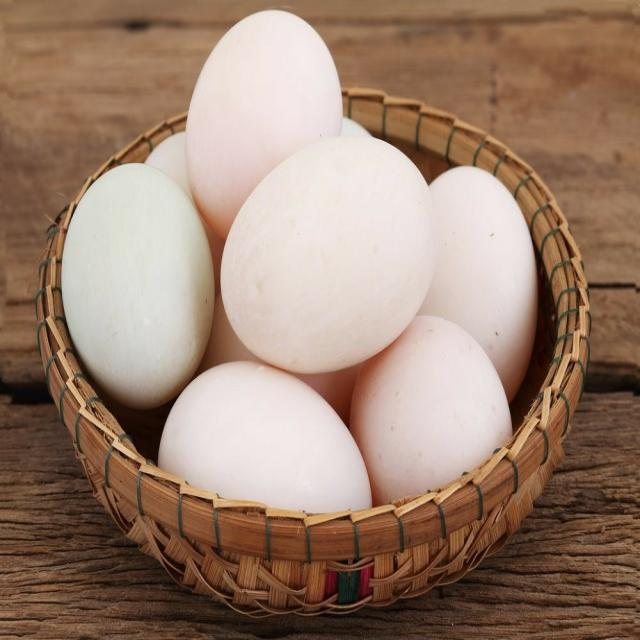Egg: (221, 137, 436, 373), (61, 163, 214, 408), (185, 9, 342, 238), (158, 362, 372, 513), (350, 315, 512, 505), (418, 167, 538, 400)
